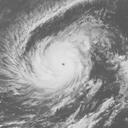cyclone: (23, 36, 96, 102)
